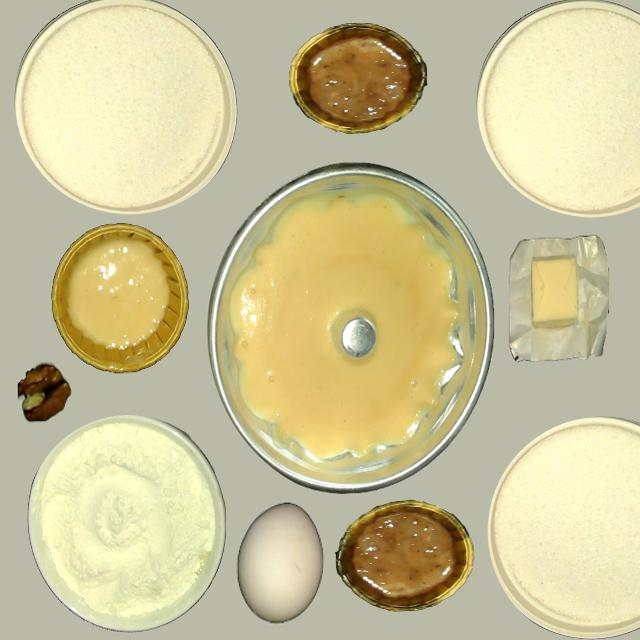Flour: (35, 419, 221, 621)
Sugar: (21, 6, 222, 211), (484, 7, 638, 212), (497, 423, 636, 628)
